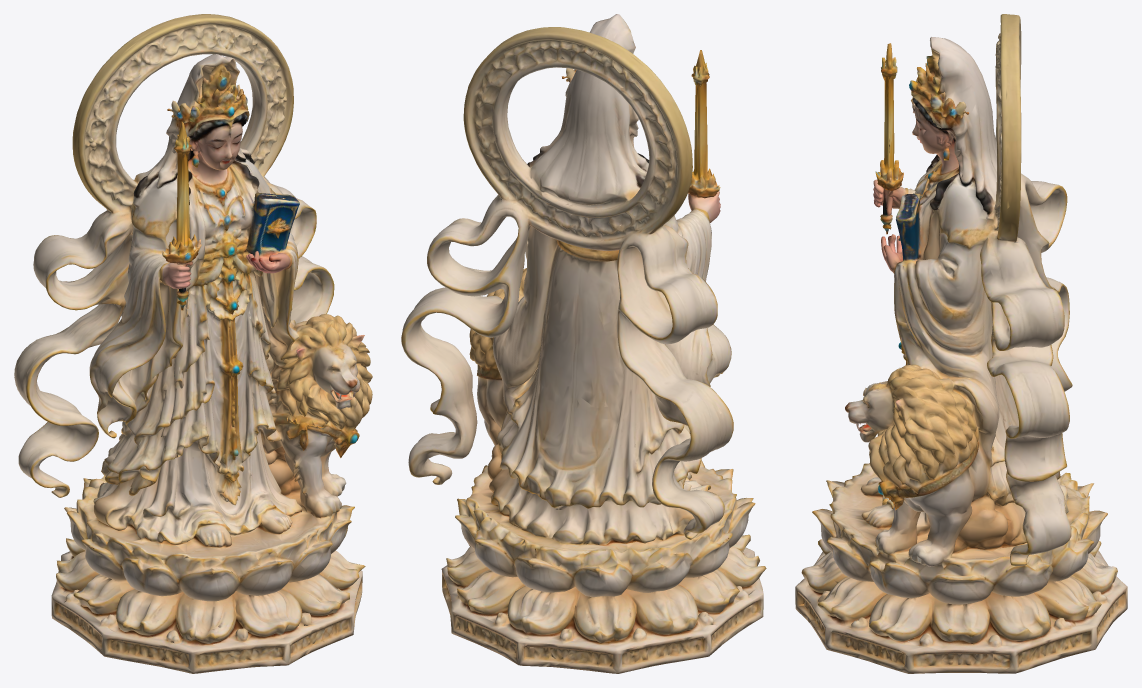
3 views of the same model, side by side, from view 1: azimuth 30°, elevation 25°; view 2: azimuth 150°, elevation 25°; view 3: azimuth 270°, elevation 25° (orthographic). The views are drawn at different scales.
Parts seen in each view (by area): view 1: owner-collection20-10; view 2: owner-collection20-10; view 3: owner-collection20-10.
Boxes of the visible parts, x1,y1,x2,y2 form: owner-collection20-10: (14, 14, 372, 673); owner-collection20-10: (401, 14, 766, 673); owner-collection20-10: (795, 14, 1127, 673).
Size of the model in its own units: 0.5681 by 0.9998 by 0.5174.
1 material, 1 textured.
